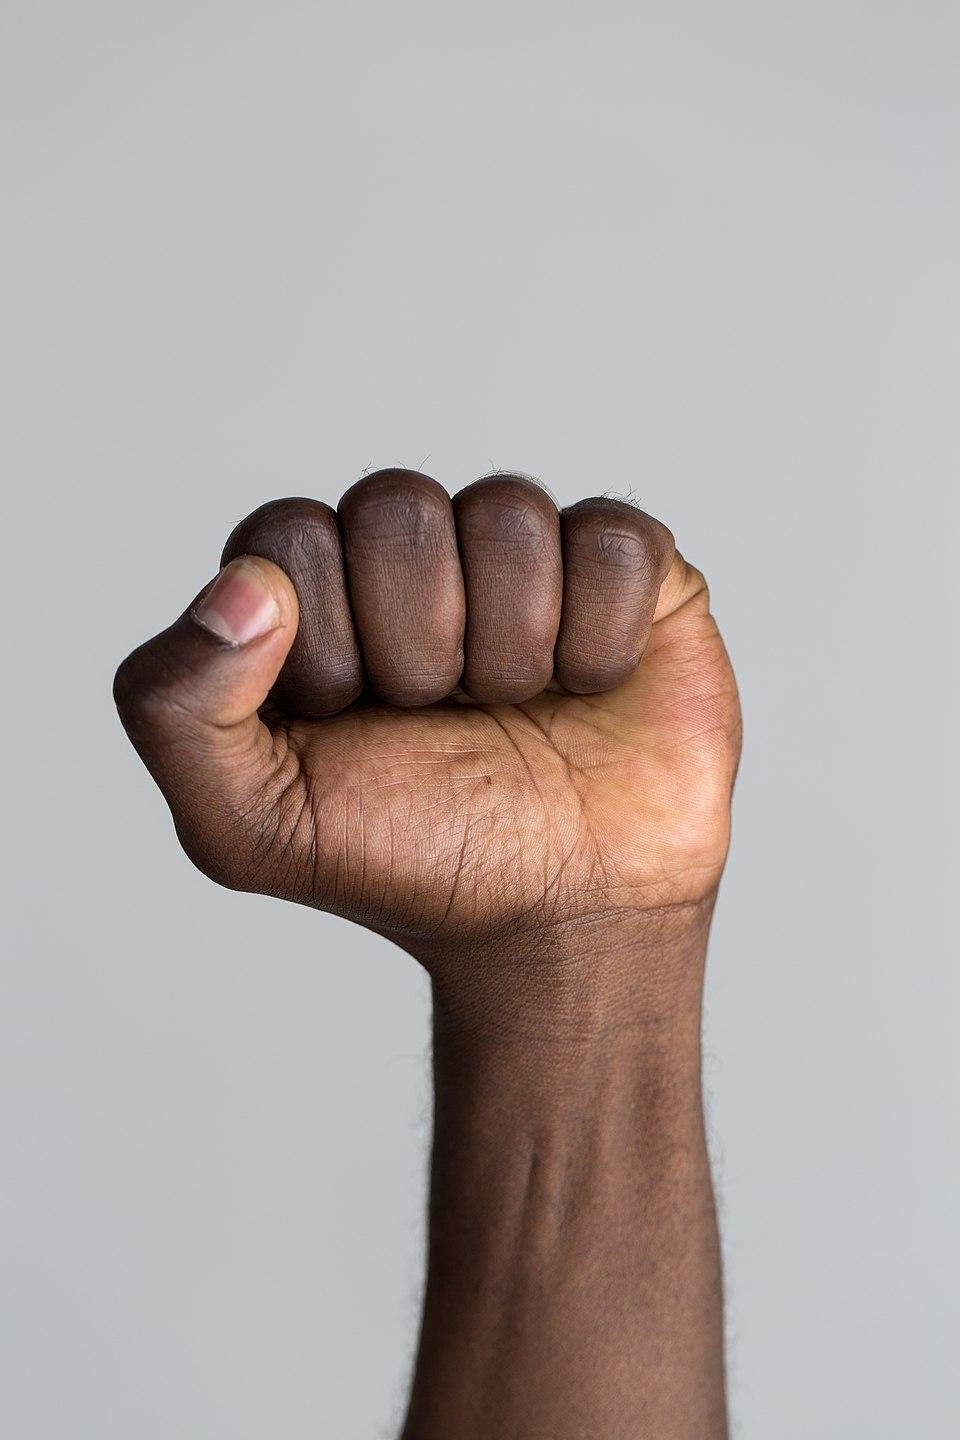rock: (48, 382, 882, 942)
